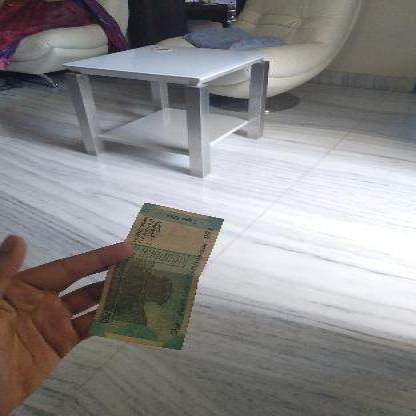New50Back: (94, 198, 206, 344)
